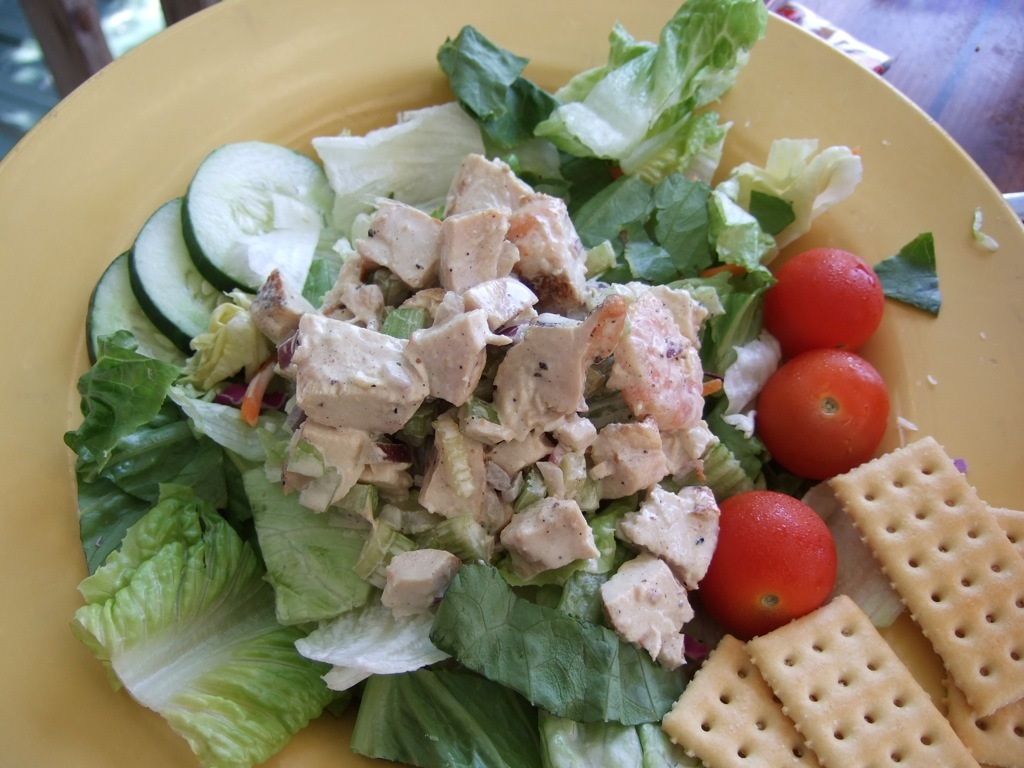salad: (59, 0, 945, 767)
